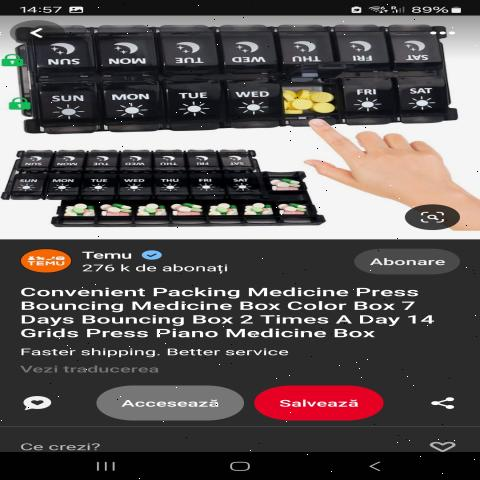PillBox: (13, 21, 479, 130), (2, 141, 350, 233)
